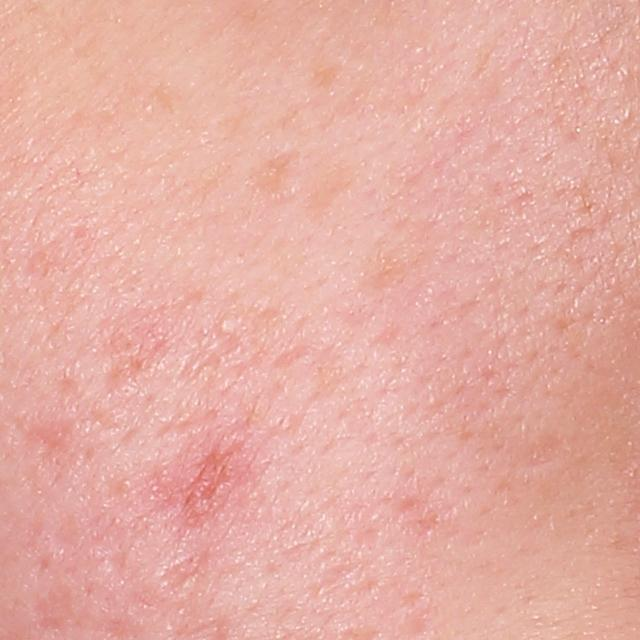atrophic_scar: (178, 433, 247, 514), (11, 417, 77, 479), (27, 577, 79, 639), (511, 432, 573, 475), (157, 549, 207, 598)
comedo: (214, 315, 235, 336)
melasma: (247, 141, 308, 201)
